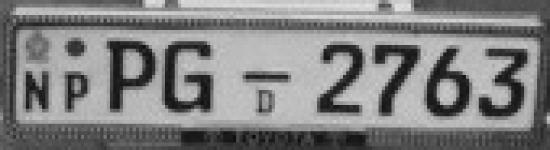-: (241, 66, 299, 89)
2: (309, 34, 367, 122)
3: (475, 39, 530, 124)
6: (426, 40, 476, 125)
7: (370, 36, 424, 123)
G: (158, 33, 222, 120)
N: (21, 67, 59, 117)
P: (102, 35, 158, 121), (59, 67, 94, 120)
